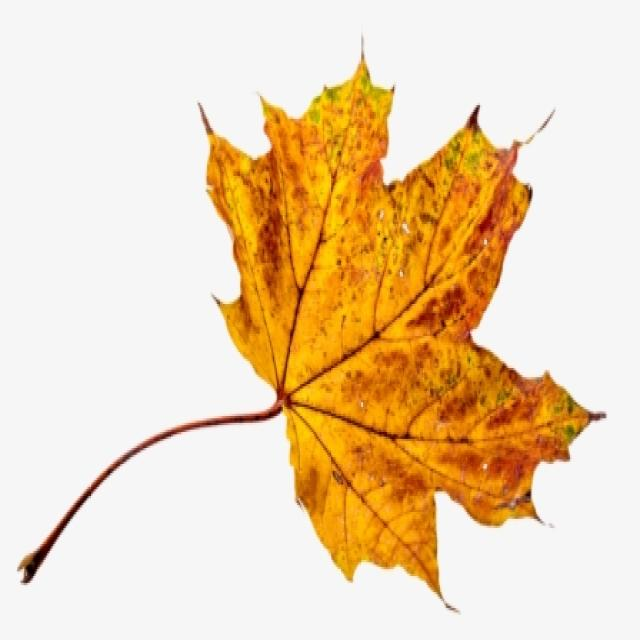Organik: (19, 37, 608, 608)
